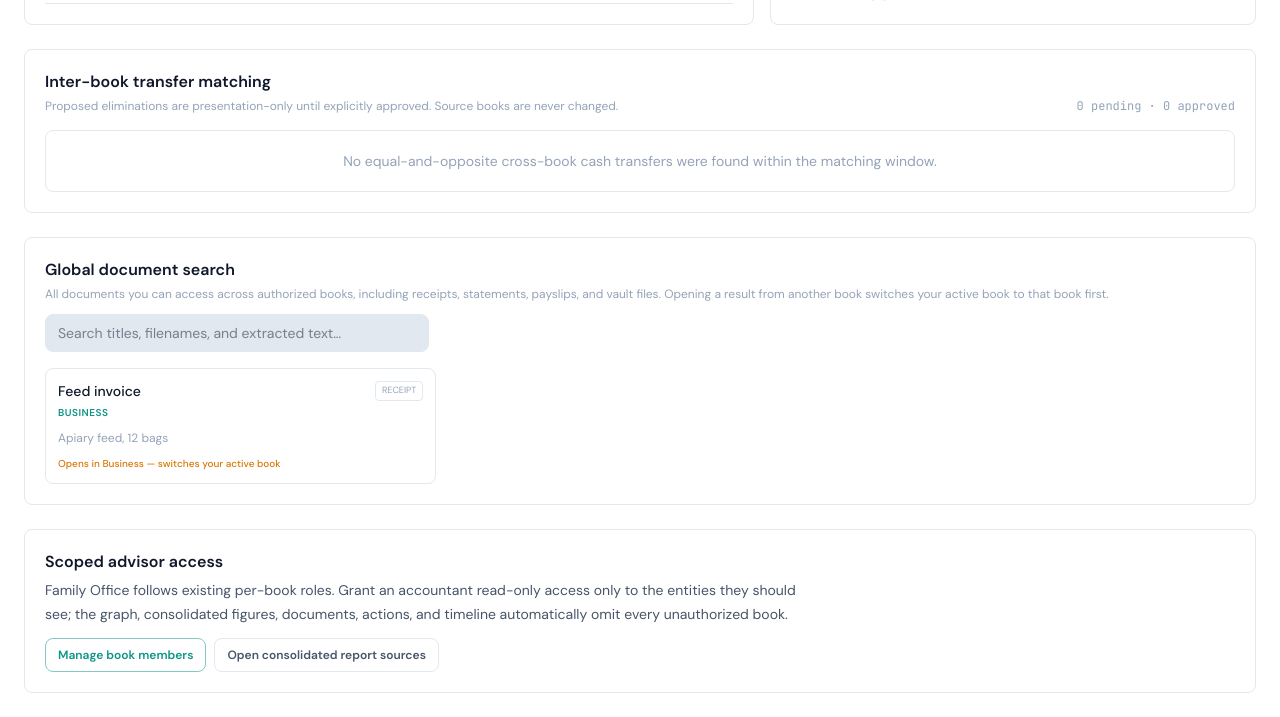
Family Office cross-book document results › switches the active book to the owning book before opening the document
(page scrolled)
Check: the text "Feed invoice" is shown, box [58, 381, 141, 401]
Check: the text "Opens in Business — switches your active book" is shown, box [58, 457, 281, 470]
Click the button with aria-label "Open Feed invoice in Business" at (99, 391), box [45, 368, 436, 484]
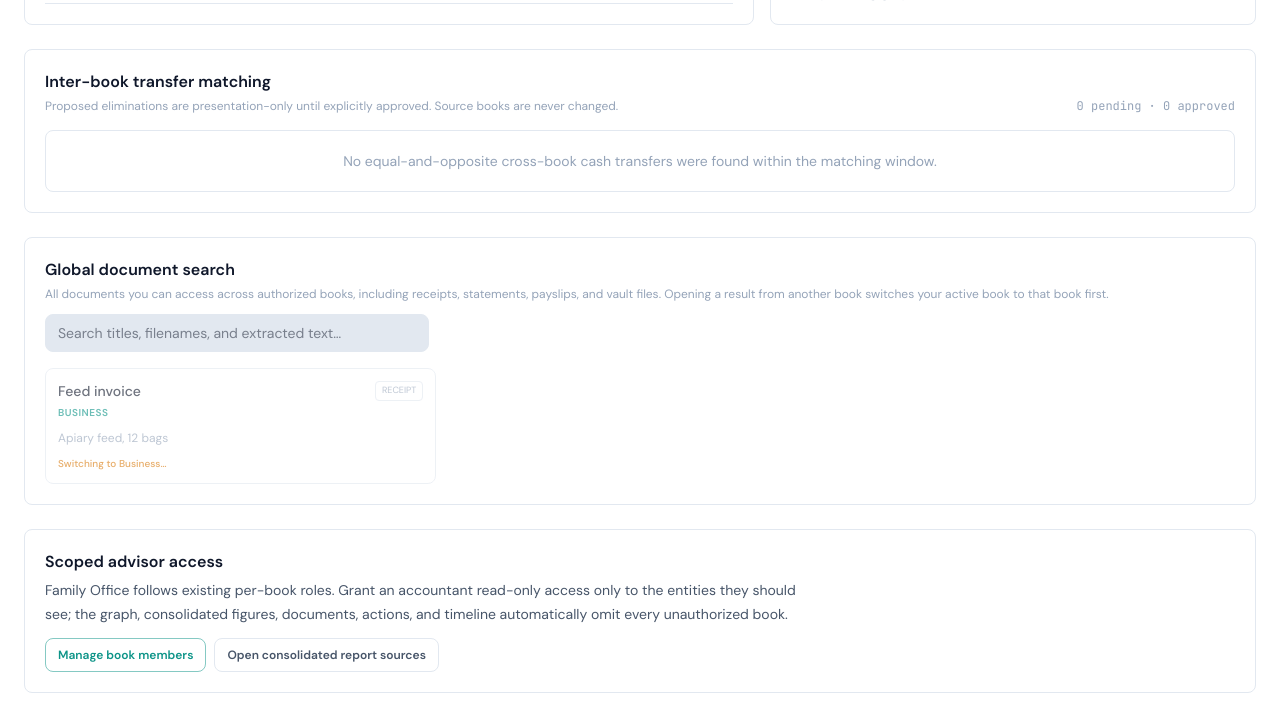
Check: the text "Switching to Business…" is shown, box [58, 457, 166, 470]
